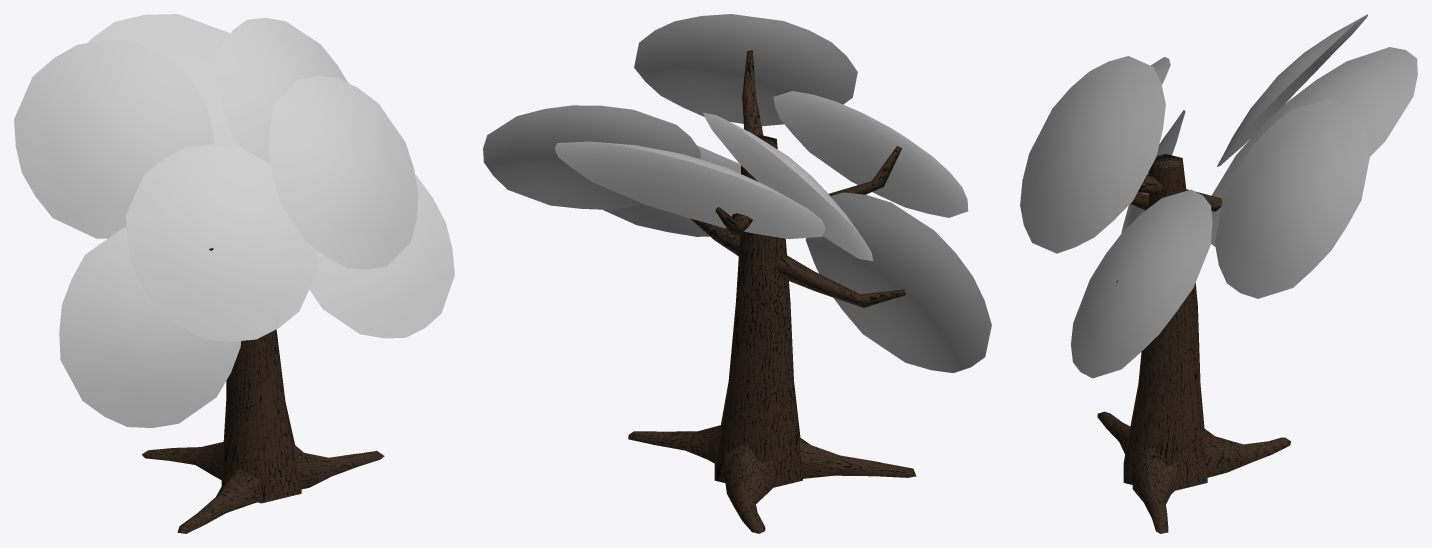
The model's file is littletree2fbx.fbx.
3 renders of one model, left to right at view 1: azimuth 30°, elevation 25°; view 2: azimuth 150°, elevation 25°; view 3: azimuth 270°, elevation 25°, orthographic. The views are drawn at different scales.
Parts seen in each view (by area): view 1: pPlane1, pPlane7, pPlane4, pPlane6, pPlane2, pPlane5, pCylinder1, pPlane3, pCylinder3, pCylinder7, pCylinder2; view 2: pPlane6, pPlane4, pCylinder1, pPlane3, pPlane5, pPlane1, pPlane7, pCylinder2, pCylinder3, pPlane2, pCylinder9, pCylinder7 (+3 smaller); view 3: pPlane5, pPlane4, pPlane2, pCylinder1, pPlane3, pPlane7, pCylinder7, pCylinder2, pPlane6, pCylinder3.
Boxes of the visible parts, bbox=[...] form: pPlane1: bbox=[126, 144, 317, 341]; pPlane7: bbox=[14, 40, 213, 238]; pPlane4: bbox=[268, 76, 418, 269]; pPlane6: bbox=[59, 227, 241, 427]; pPlane2: bbox=[309, 174, 454, 338]; pPlane5: bbox=[216, 18, 347, 163]; pCylinder1: bbox=[221, 329, 301, 503]; pPlane3: bbox=[88, 14, 239, 146]; pCylinder3: bbox=[177, 468, 258, 533]; pCylinder7: bbox=[293, 444, 384, 489]; pCylinder2: bbox=[142, 442, 223, 479]; pPlane6: bbox=[805, 192, 991, 372]; pPlane4: bbox=[634, 14, 857, 126]; pCylinder1: bbox=[714, 134, 802, 487]; pPlane3: bbox=[555, 141, 825, 238]; pPlane5: bbox=[483, 105, 700, 209]; pPlane1: bbox=[773, 91, 968, 217]; pPlane7: bbox=[703, 112, 873, 260]; pCylinder2: bbox=[724, 445, 774, 533]; pCylinder3: bbox=[799, 438, 916, 478]; pPlane2: bbox=[603, 145, 740, 236]; pCylinder9: bbox=[775, 255, 905, 307]; pCylinder7: bbox=[628, 425, 720, 463]; pPlane5: bbox=[1215, 99, 1370, 298]; pPlane4: bbox=[1020, 56, 1165, 253]; pPlane2: bbox=[1071, 189, 1212, 378]; pCylinder1: bbox=[1123, 154, 1207, 490]; pPlane3: bbox=[1211, 47, 1417, 246]; pPlane7: bbox=[1217, 14, 1367, 166]; pCylinder7: bbox=[1132, 445, 1177, 533]; pCylinder2: bbox=[1204, 428, 1290, 477]; pPlane6: bbox=[1121, 110, 1185, 233]; pCylinder3: bbox=[1097, 411, 1130, 454].
Bounding box in the file's own units: 13.59 × 13.47 × 11.52.
